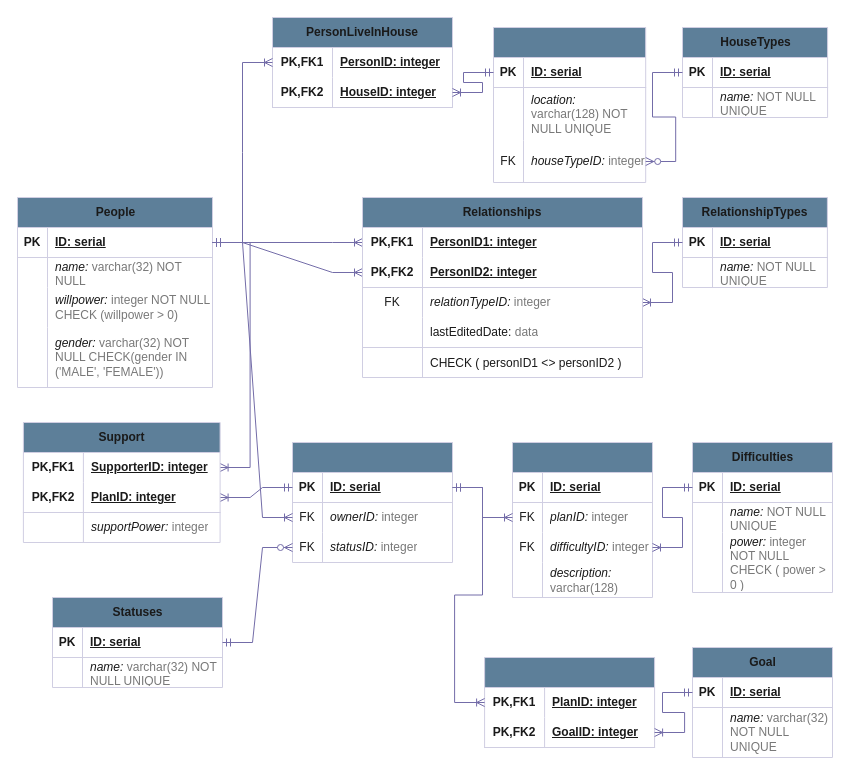
Image size: 850x775. Some labels were removed from this diagram. The shapes that lost their labels are listed below. From the top down, each one's box as (x1, y1, x2, y2) in pixels, then its label:
(492, 26, 646, 182): Houses
(292, 442, 452, 562): Plans
(512, 442, 652, 598): Steps
(484, 656, 655, 748): GoalInPlan
